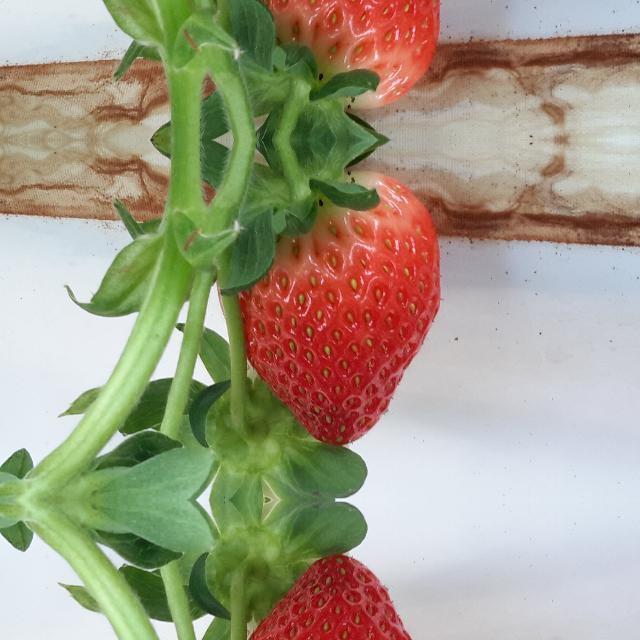Health_100: (239, 169, 441, 445), (239, 0, 441, 111), (239, 555, 441, 640)
